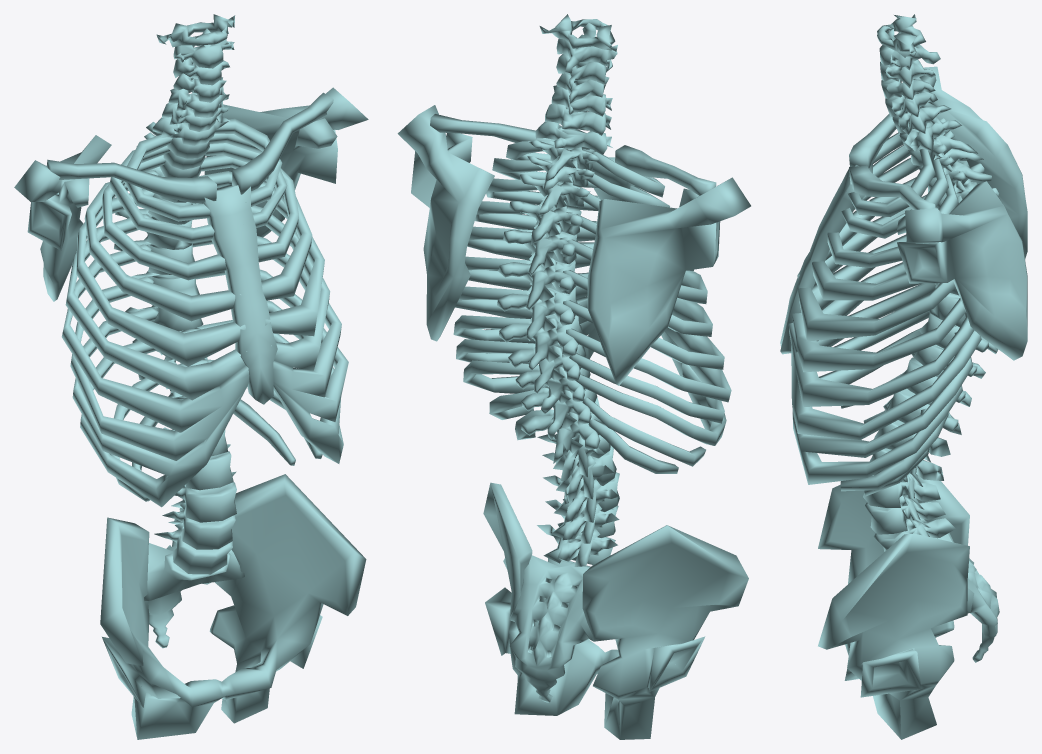
Rendered from Skelly_spine.fbx.
3 renders of one model, left to right at view 1: azimuth 30°, elevation 25°; view 2: azimuth 150°, elevation 25°; view 3: azimuth 270°, elevation 25°, orthographic. The views are drawn at different scales.
Parts seen in each view (by area): view 1: Skelly_spine; view 2: Skelly_spine; view 3: Skelly_spine.
Boxes of the visible parts, bbox=[...] form: Skelly_spine: bbox=[14, 14, 368, 739]; Skelly_spine: bbox=[397, 14, 750, 739]; Skelly_spine: bbox=[780, 14, 1027, 739].
Bounding box in the file's own units: 38.91 × 77.21 × 25.32.
